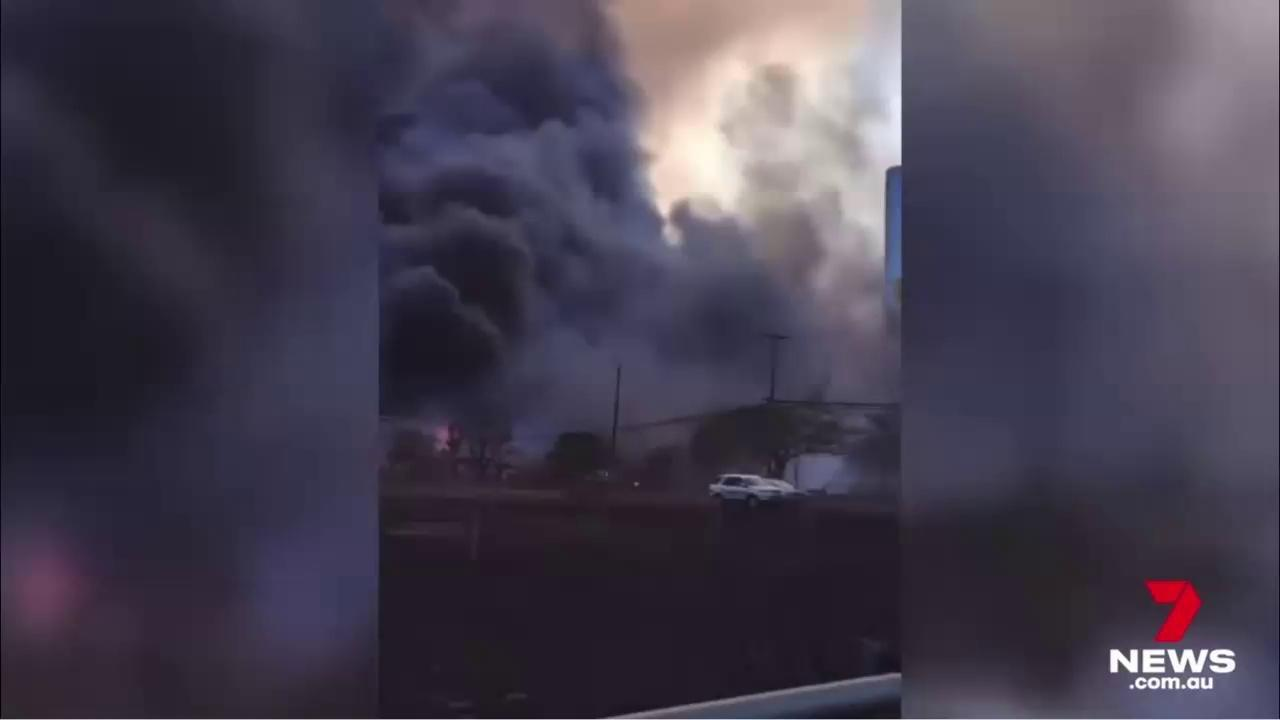fire: (437, 421, 462, 458)
smoke: (380, 0, 902, 478)
